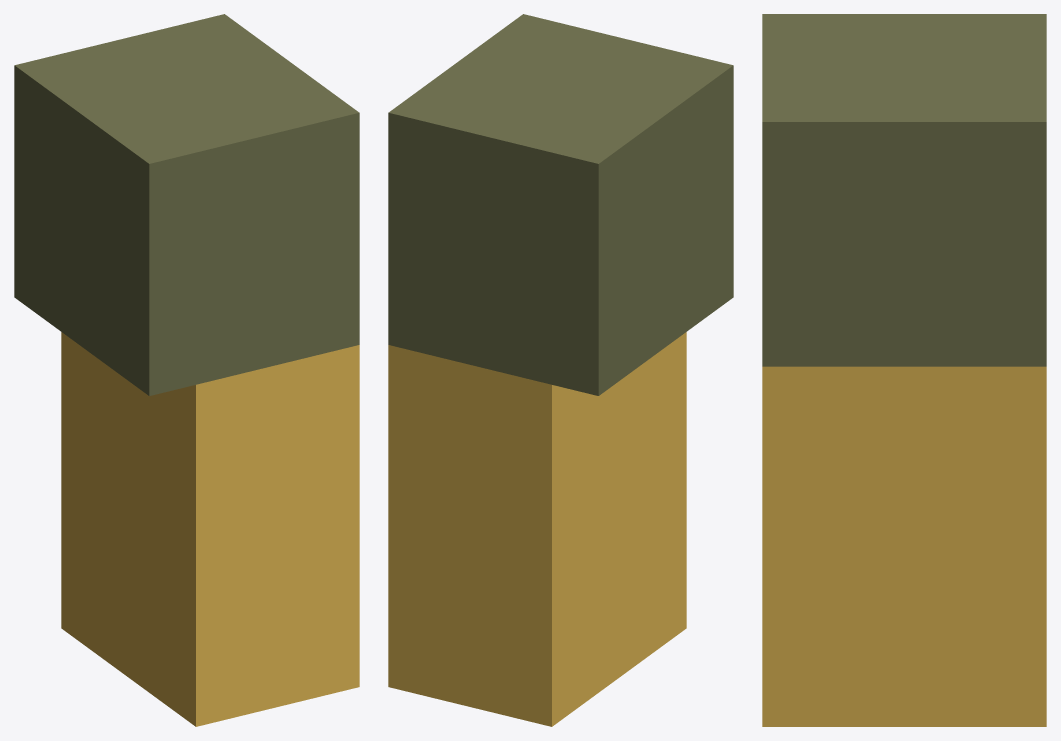
The model's file is seller-4.obj.
3 renders of one model, left to right at view 1: azimuth 30°, elevation 25°; view 2: azimuth 150°, elevation 25°; view 3: azimuth 270°, elevation 25°, orthographic. The views are drawn at different scales.
Size of the model in its own units: 1.8 by 4.7 by 2.
Materials: 1 (1 with a texture image).
